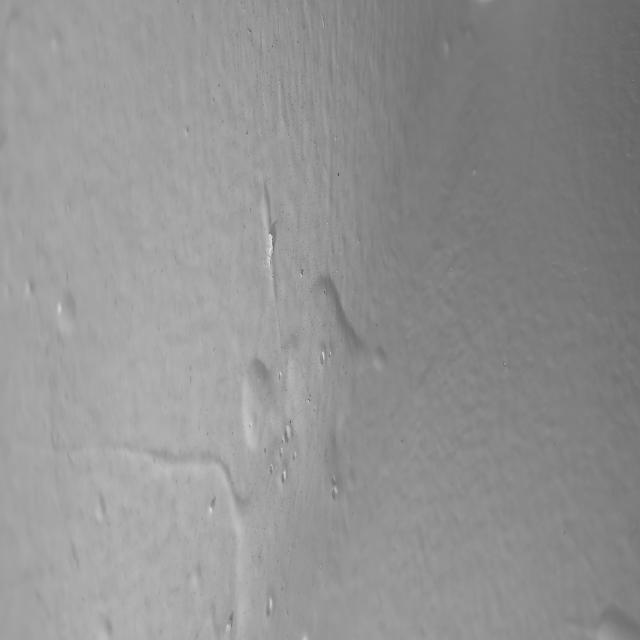paint drips: (143, 166, 390, 620)
